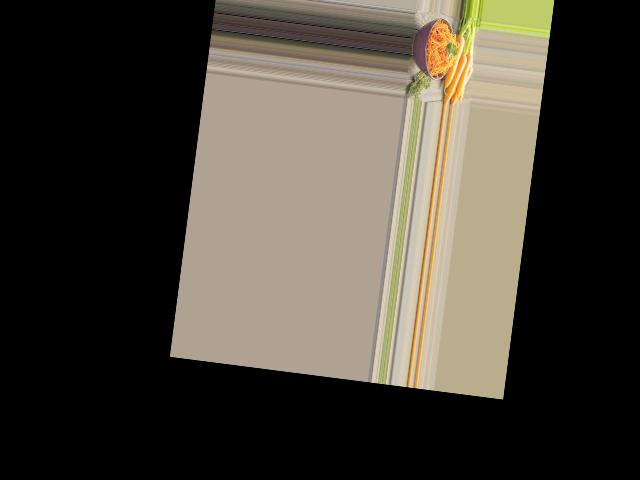carrot: (443, 30, 466, 92)
